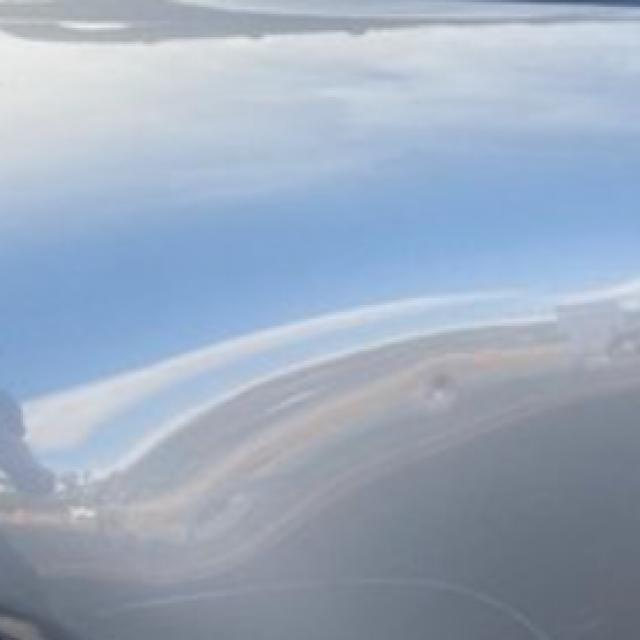dents: (418, 359, 479, 436)
